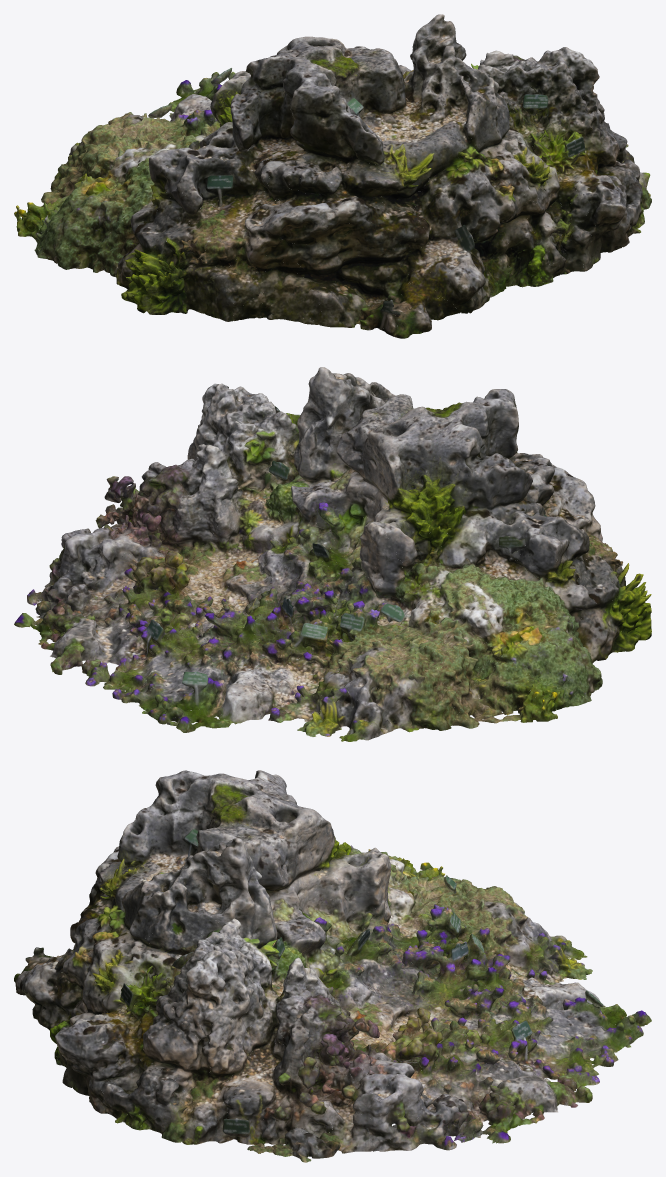
Rendered from plant_island_opt.glb.
3 views of the same model, one above another, from view 1: azimuth 30°, elevation 25°; view 2: azimuth 150°, elevation 25°; view 3: azimuth 270°, elevation 25° (orthographic). The views are drawn at different scales.
Visible parts, largest first — view 1: Model_material0_0; view 2: Model_material0_0; view 3: Model_material0_0.
Boxes of the visible parts, x1=… form: Model_material0_0: x1=14, y1=14, x2=651, y2=338; Model_material0_0: x1=14, y1=367, x2=651, y2=741; Model_material0_0: x1=14, y1=770, x2=651, y2=1162.
Bounding box in the file's own units: 3.57 × 1.28 × 3.45.
Materials: 1 (1 with a texture image).
